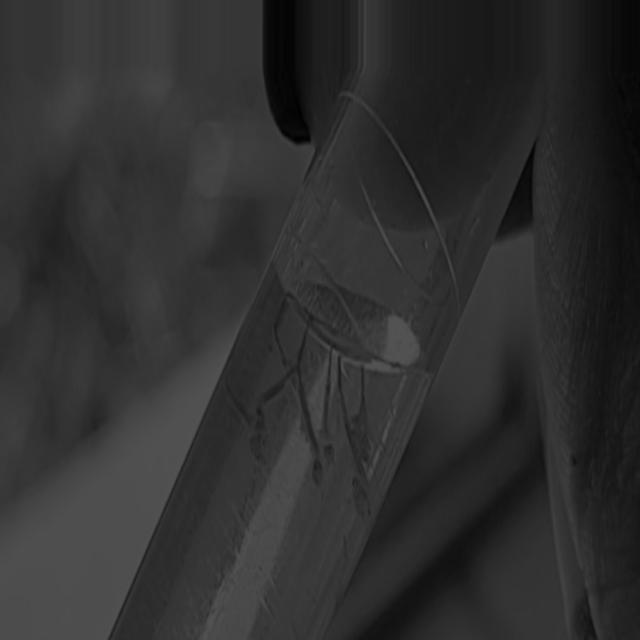larvas: (339, 353, 370, 512), (223, 375, 259, 463), (295, 374, 323, 484), (352, 366, 372, 459), (255, 375, 290, 427), (322, 357, 333, 462), (275, 308, 291, 362)
